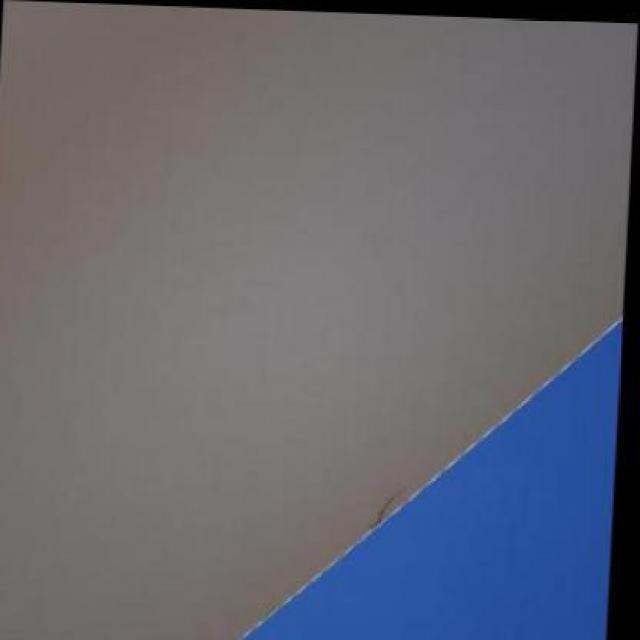Crack: (378, 486, 404, 522)
